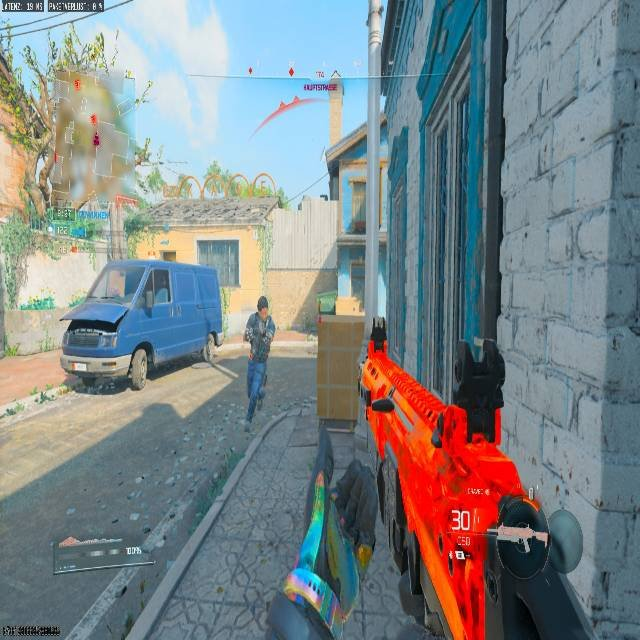head: (256, 296, 269, 316)
player: (243, 296, 277, 423)
